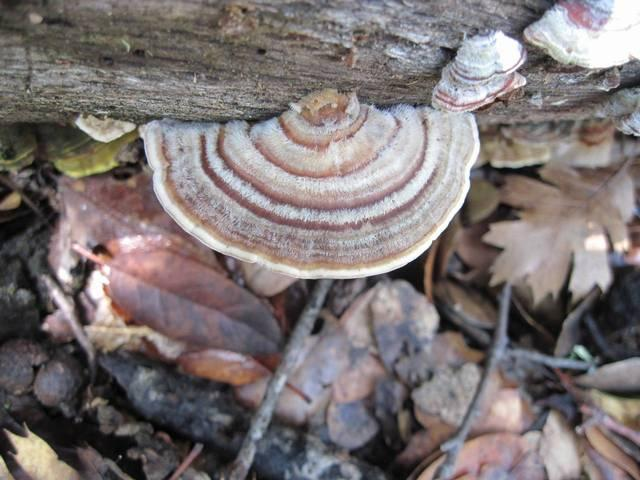Non-edible Mushroom: (137, 85, 481, 290), (429, 27, 528, 113), (525, 0, 640, 67)
